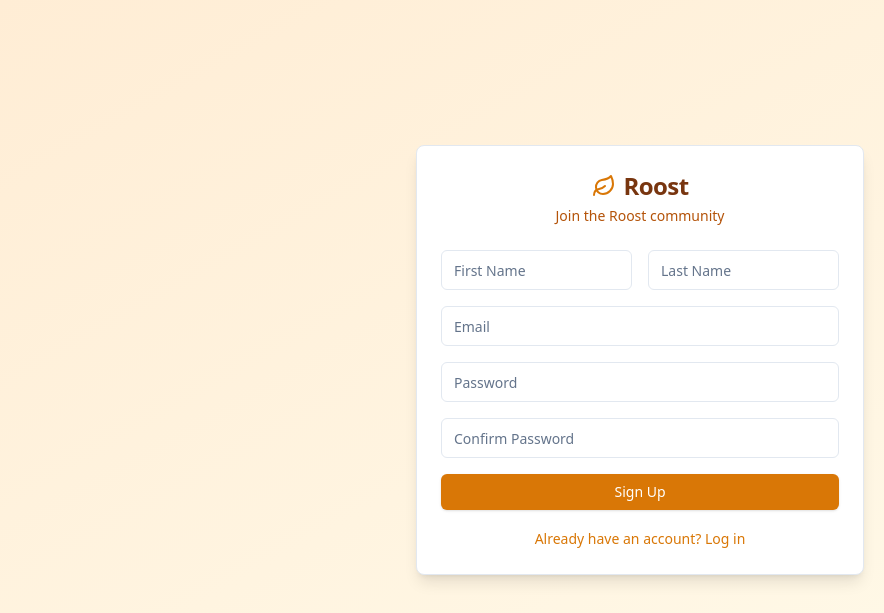
SignupPage › Form Validation › should show validation error for empty password submission
In the field with placeholder "First Name": (536, 270) [441,250,632,290], type "John"
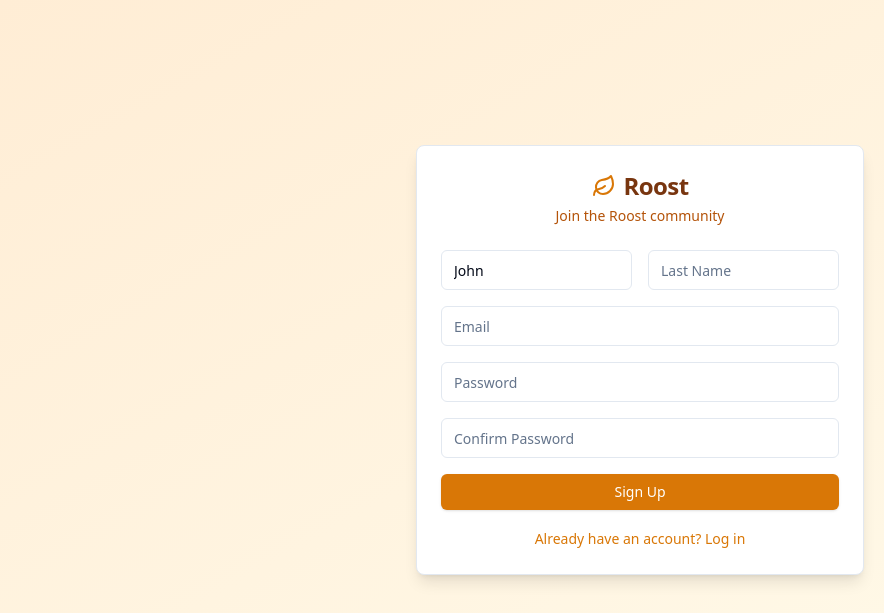
In the field with placeholder "Last Name": (744, 270) [648,250,839,290], type "Doe"
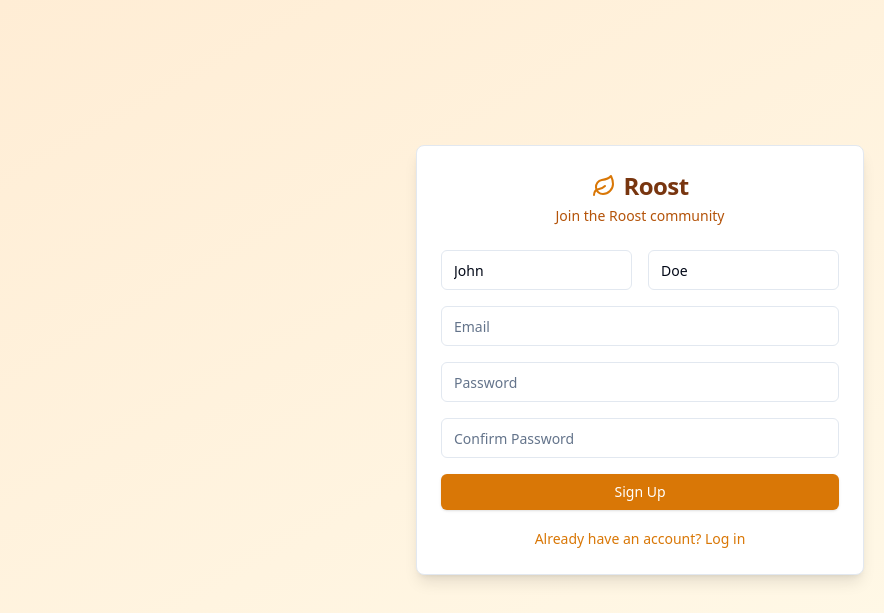
In the field with placeholder "Email": (640, 326) [441,306,839,346], type "john.doe@example.com"
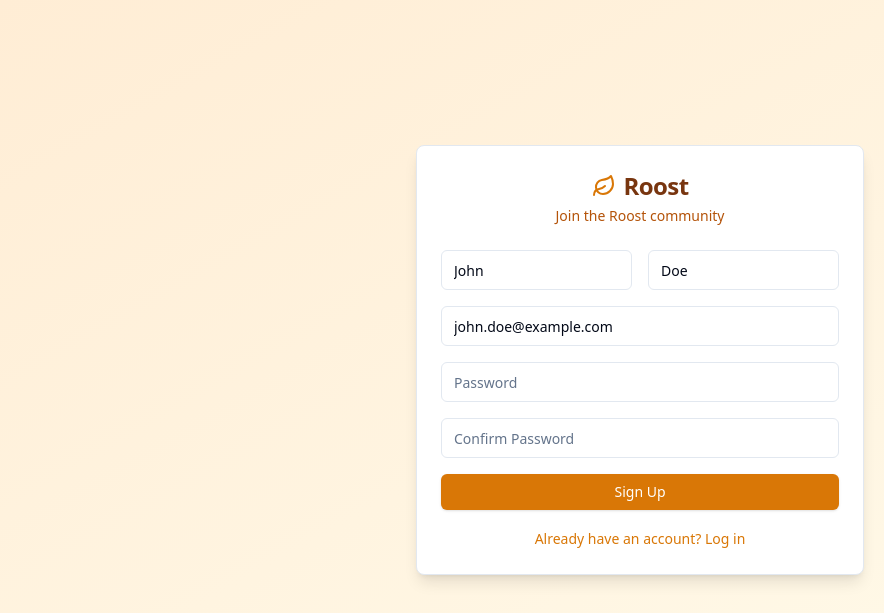
Click the button "Sign Up": (640, 492) [441,474,839,510]
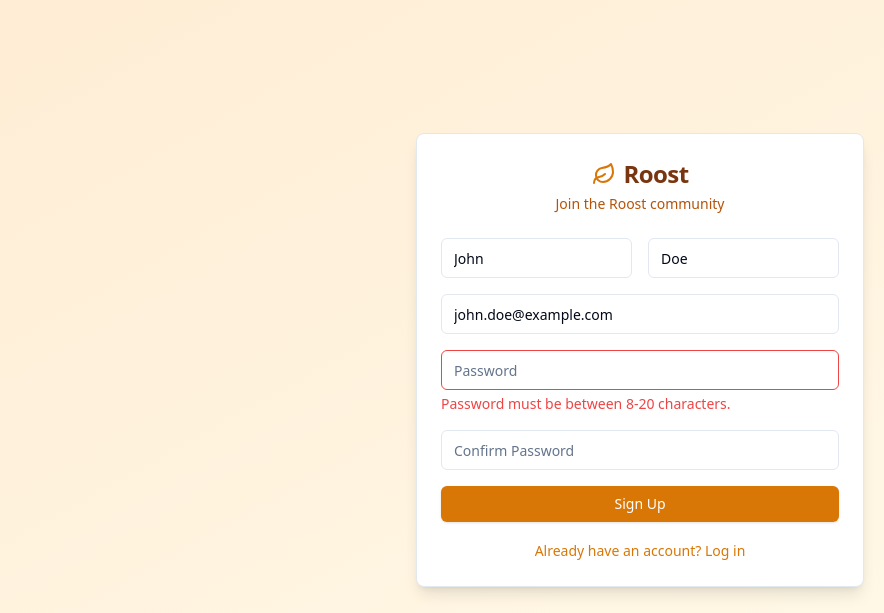
Now the text "Password must be between 8-20 characters." is shown, box [441,394,731,413]
